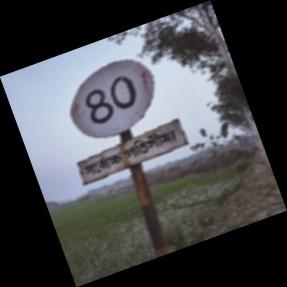Speed-limit: (70, 60, 188, 183)
